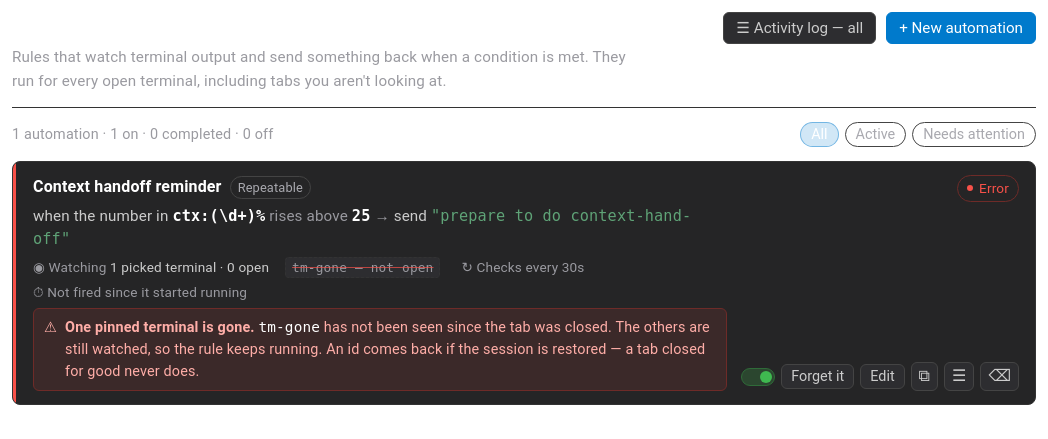
AutomationsPanel › says so when the rule a row was clicked on has already been deleted
Click the button "Forget it".
click(818, 377)  # box [781,364,854,389]
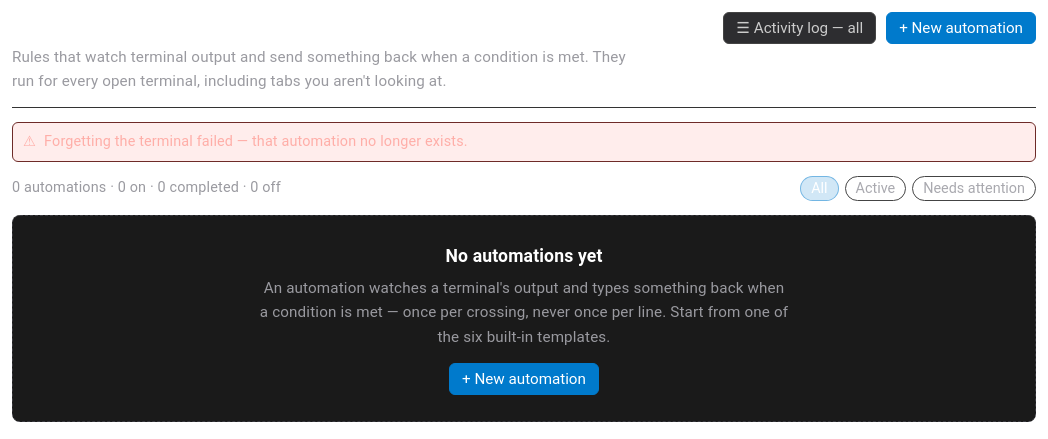
Check: the message with class "standalone" shows "that automation no longer exists", box [44,133,468,150]
Check: no elements with class "au-row" are shown
